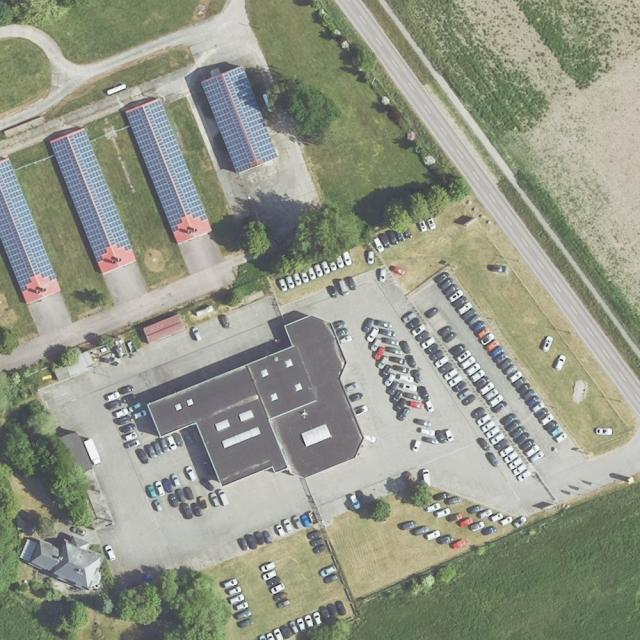PV: (52, 127, 133, 264), (127, 100, 207, 234), (201, 66, 277, 176), (0, 155, 57, 296)
